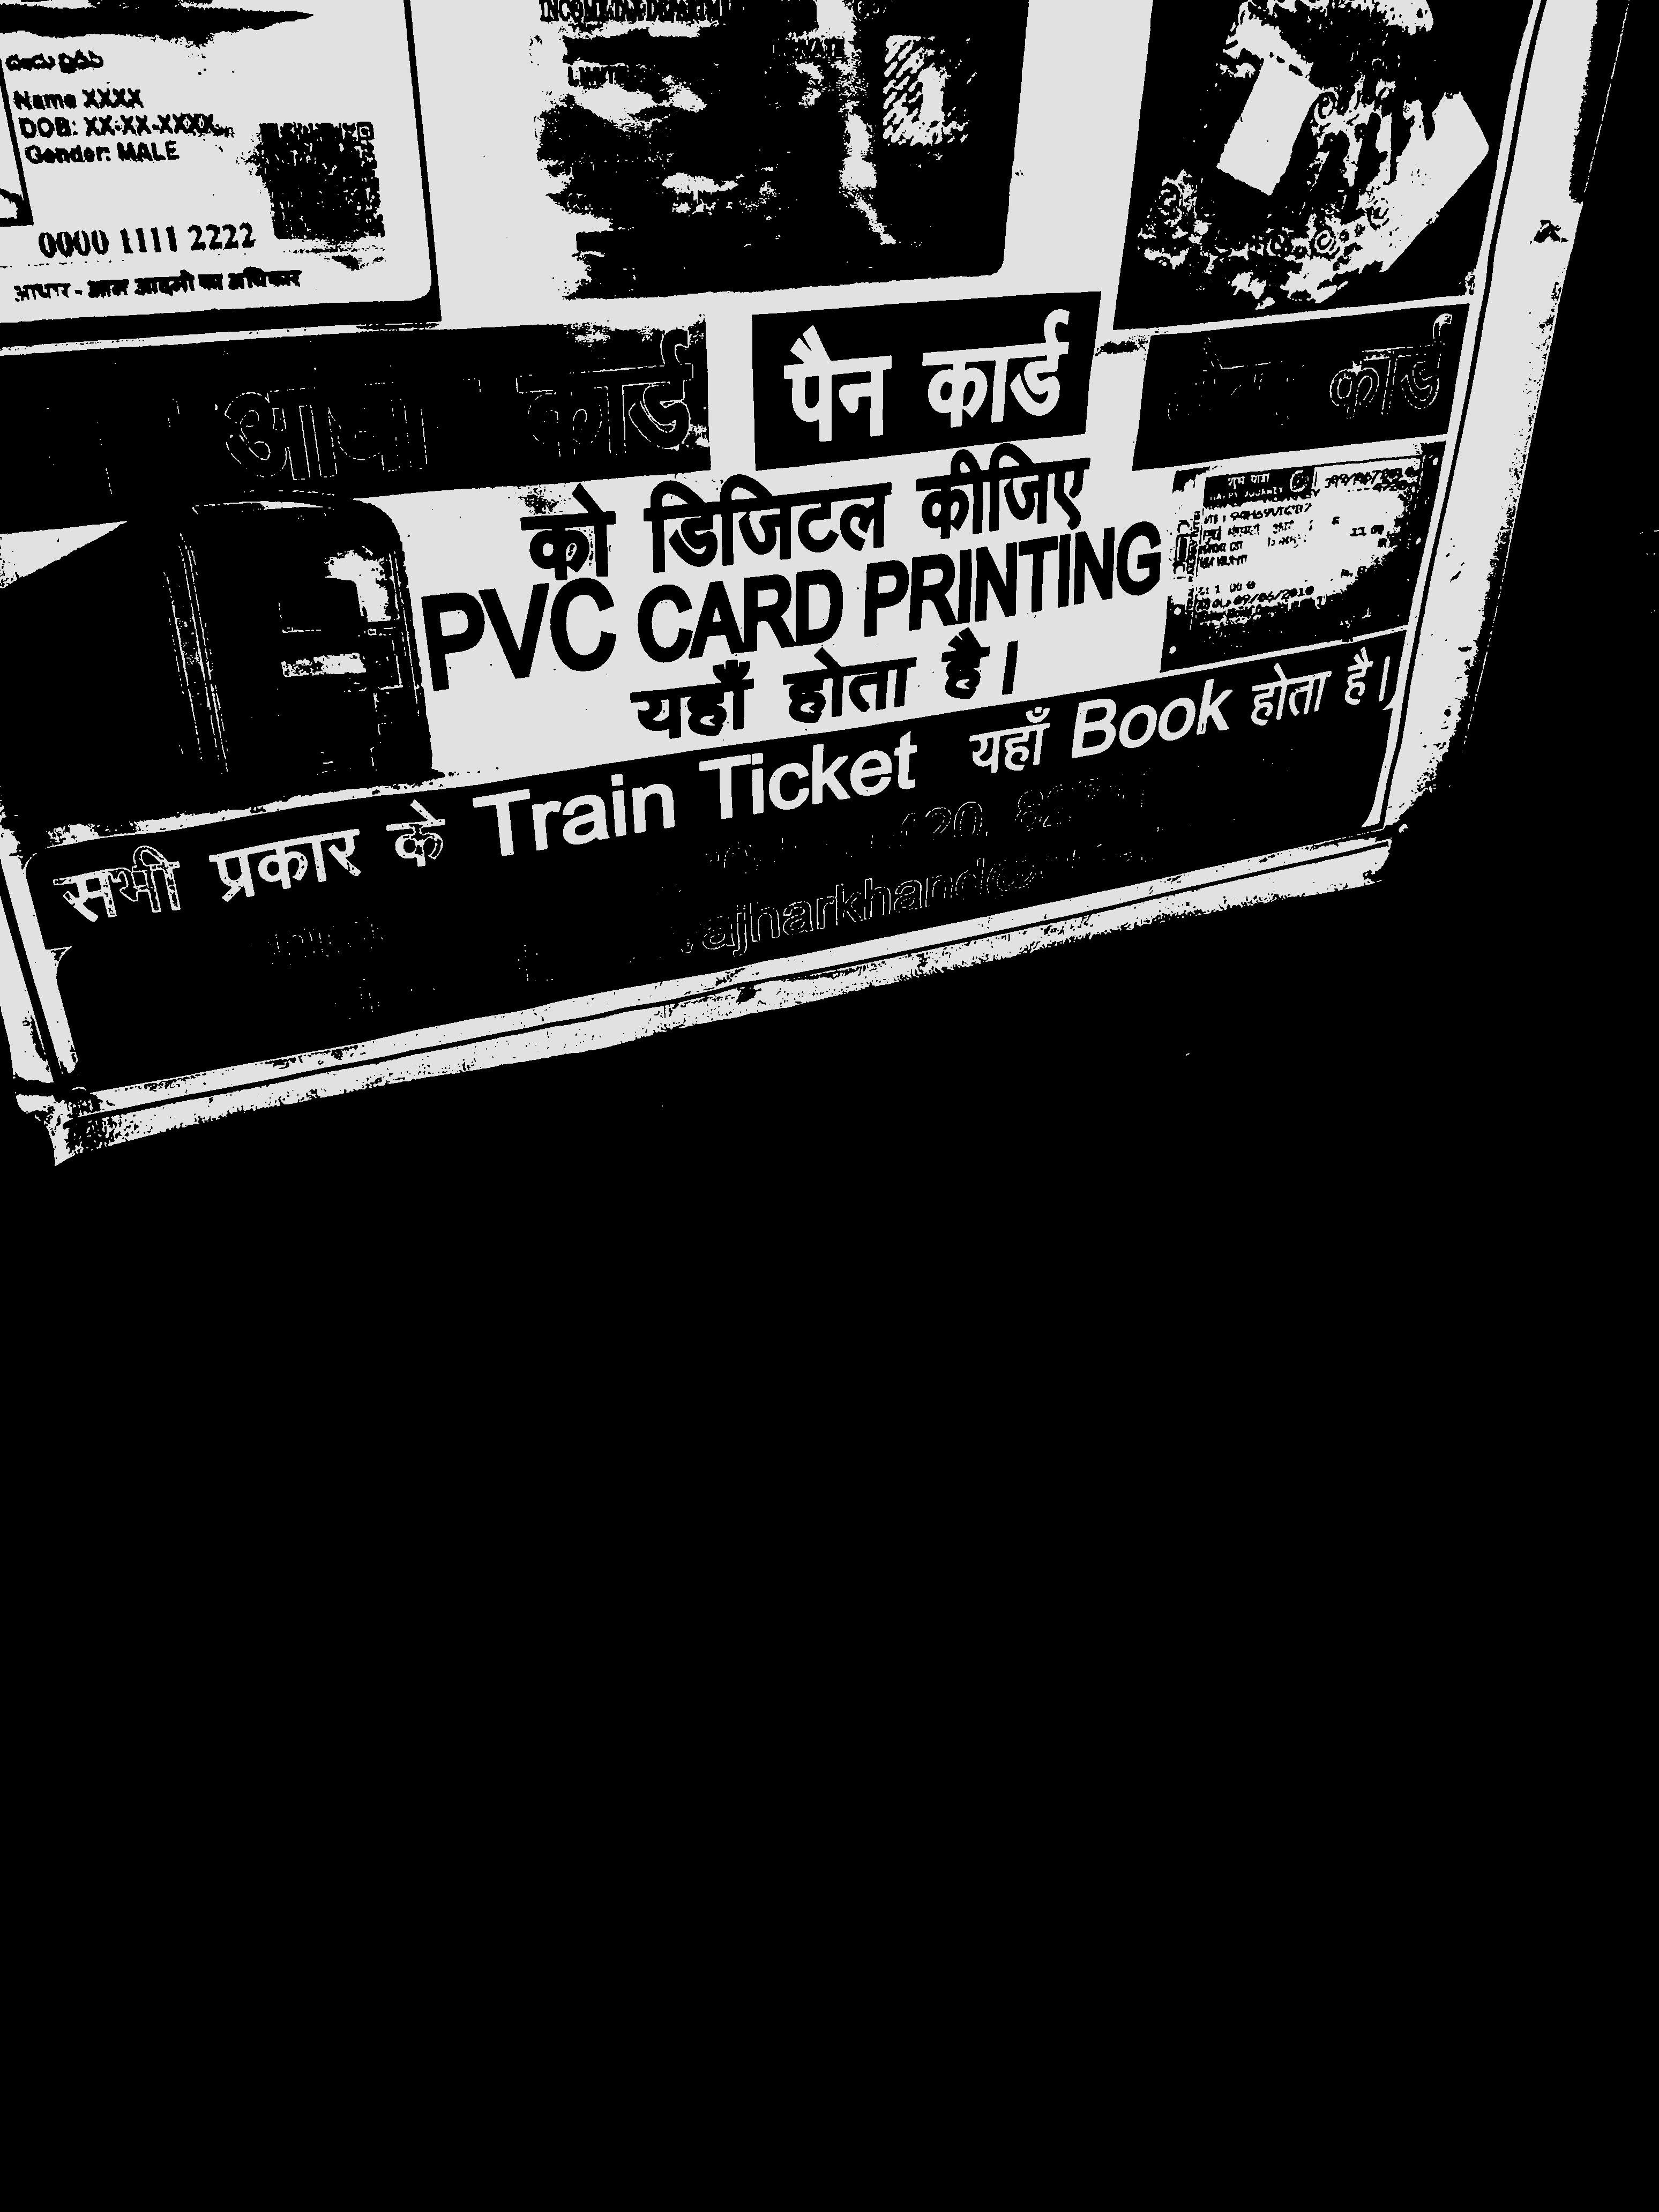text: (0, 296, 1511, 1130), (5, 7, 1051, 327)
